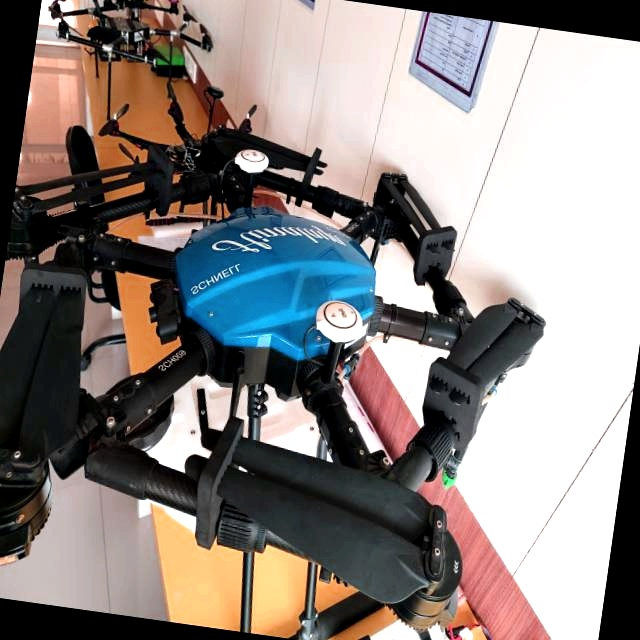agriculturedrone: (0, 105, 572, 640)
